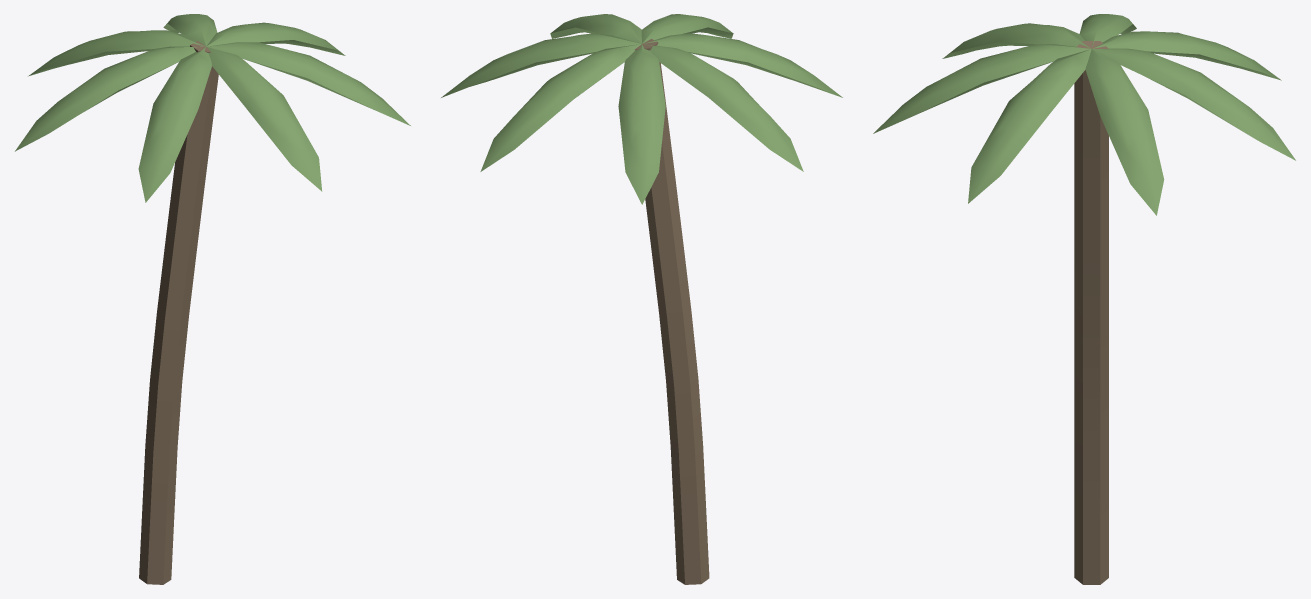
File: palmera.fbx
3 renders of one model, left to right at view 1: azimuth 30°, elevation 25°; view 2: azimuth 150°, elevation 25°; view 3: azimuth 270°, elevation 25°, orthographic. The views are drawn at different scales.
Parts seen in each view (by area): view 1: hojas, tronco; view 2: hojas, tronco; view 3: hojas, tronco.
Boxes of the visible parts, x1,y1,x2,y2 form: hojas: (15, 14, 410, 202); tronco: (139, 41, 218, 584); hojas: (441, 14, 842, 204); tronco: (634, 39, 709, 584); hojas: (873, 14, 1295, 215); tronco: (1074, 41, 1108, 584).
Bounding box in the file's own units: 2.72 × 3.94 × 2.7.
